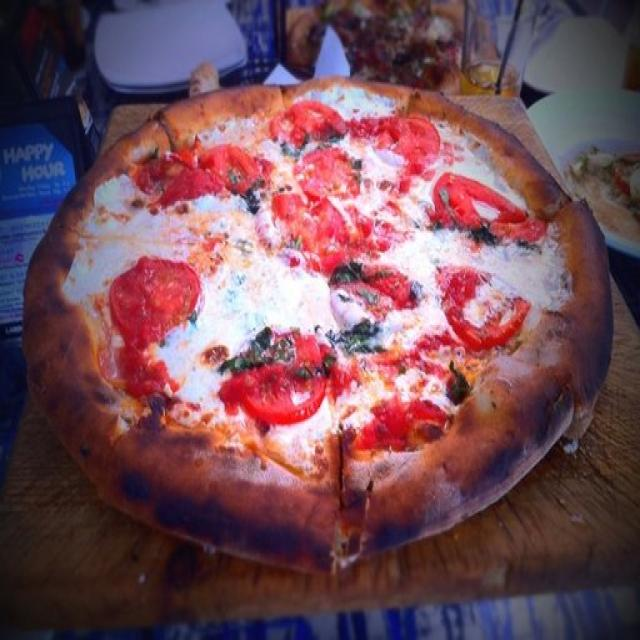Basil: (224, 330, 306, 372), (327, 315, 388, 356), (443, 355, 484, 406), (332, 258, 378, 294), (238, 179, 283, 213), (330, 250, 365, 289), (312, 118, 347, 152), (470, 224, 498, 254), (430, 182, 456, 211)
Pizza: (25, 82, 609, 570)
Tomato: (228, 327, 337, 417), (441, 258, 534, 348), (425, 179, 548, 247), (108, 258, 204, 339), (273, 189, 363, 263), (137, 152, 261, 200), (356, 110, 440, 168), (344, 262, 423, 322), (299, 136, 367, 203), (271, 110, 348, 152)
